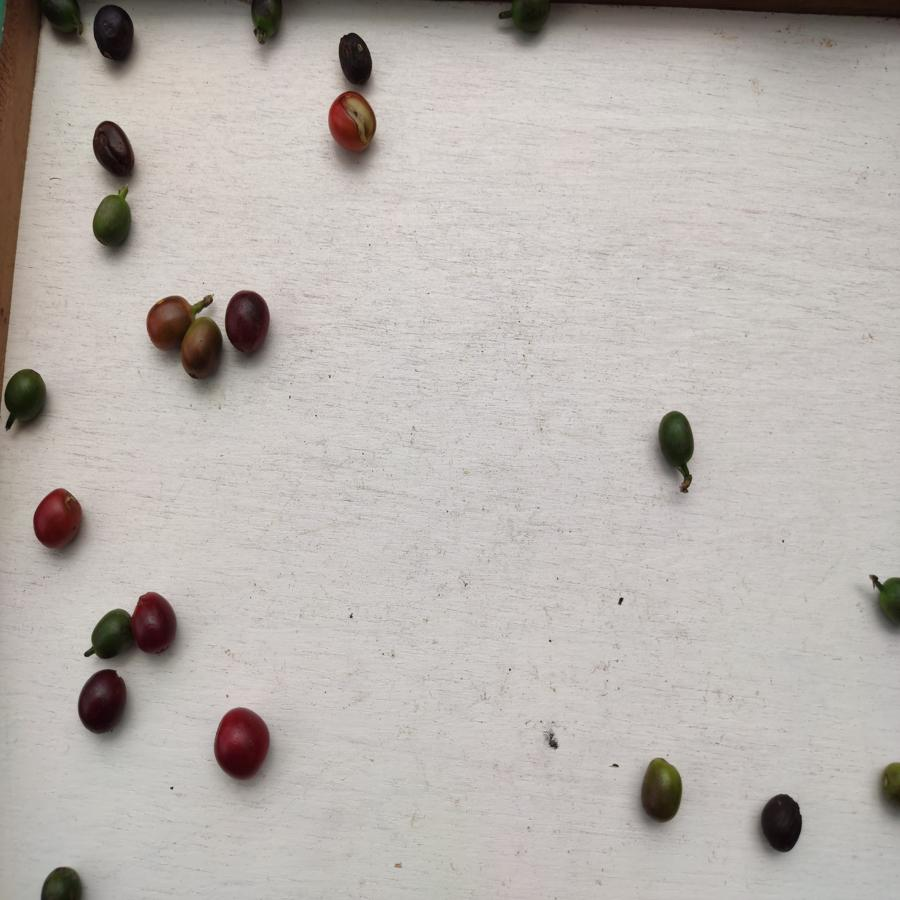Inmaduro: (657, 406, 699, 472), (4, 364, 46, 427), (90, 193, 133, 250), (35, 863, 90, 900), (90, 608, 130, 658), (249, 1, 284, 44), (38, 1, 82, 34), (507, 1, 550, 33)
Maduro: (209, 705, 270, 781), (325, 87, 377, 156), (30, 487, 83, 549)
Pinton: (638, 755, 685, 829), (180, 315, 223, 382), (145, 295, 195, 348)
Sobremaduro: (74, 669, 135, 738), (132, 587, 181, 656), (226, 290, 271, 357), (87, 121, 138, 177), (90, 4, 134, 63), (763, 794, 803, 856), (331, 28, 373, 86)
